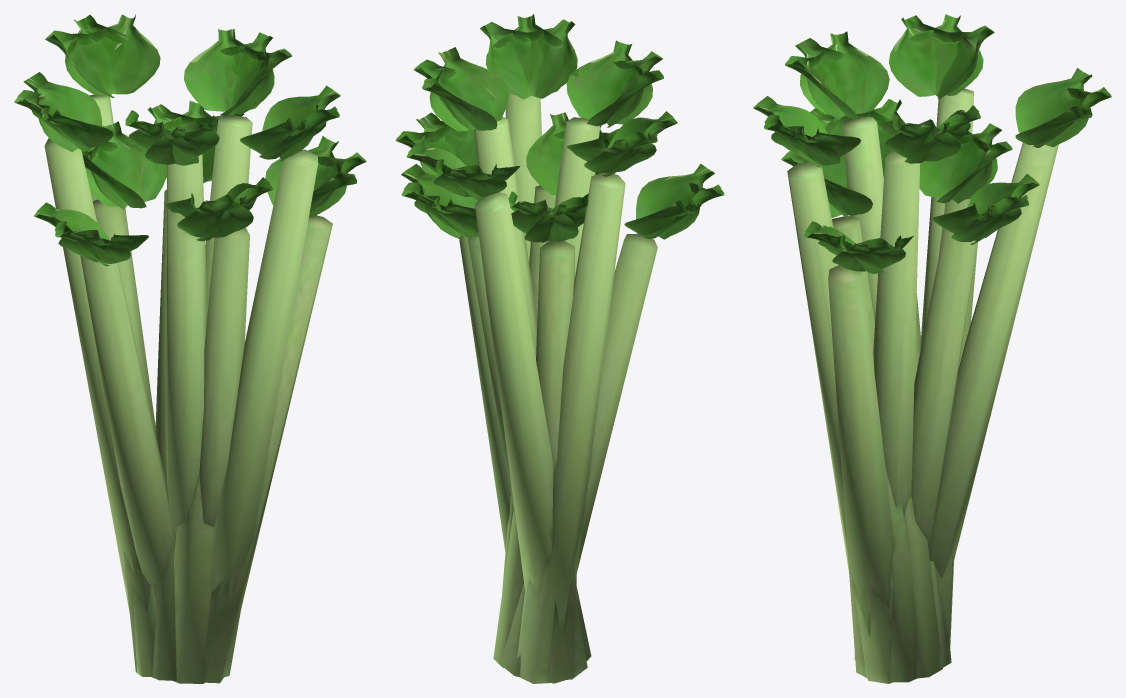
The model's file is crop_celery.glb.
3 views of the same model, side by side, from view 1: azimuth 30°, elevation 25°; view 2: azimuth 150°, elevation 25°; view 3: azimuth 270°, elevation 25° (orthographic).
Visible parts, largest first — view 1: fruit, crop_celery; view 2: fruit, crop_celery; view 3: fruit, crop_celery.
Boxes of the visible parts, bbox=[...] form: fruit: bbox=[44, 95, 332, 683]; crop_celery: bbox=[14, 14, 366, 266]; fruit: bbox=[459, 94, 657, 683]; crop_celery: bbox=[395, 14, 724, 242]; fruit: bbox=[787, 88, 1058, 683]; crop_celery: bbox=[753, 14, 1111, 273].
Size of the model in its own units: 0.1575 by 0.2918 by 0.1585.
1 material, 1 textured.
